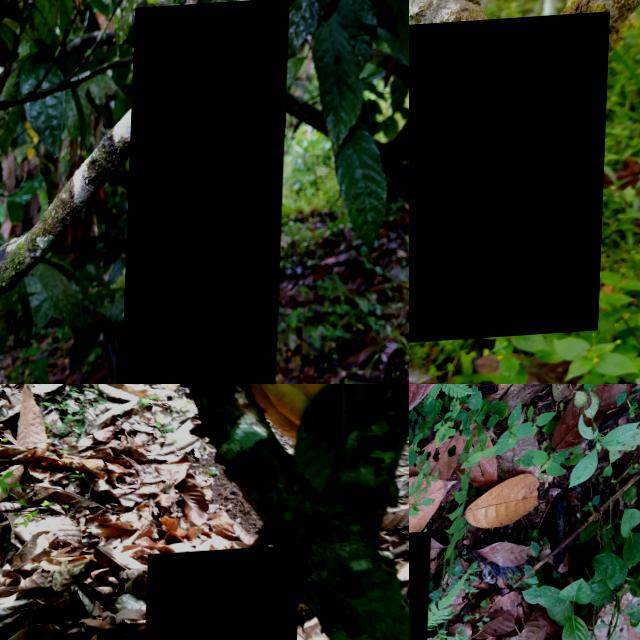Fitoftora: (409, 18, 610, 347), (145, 550, 303, 640), (235, 384, 366, 437)
Monilia: (123, 3, 290, 384)
